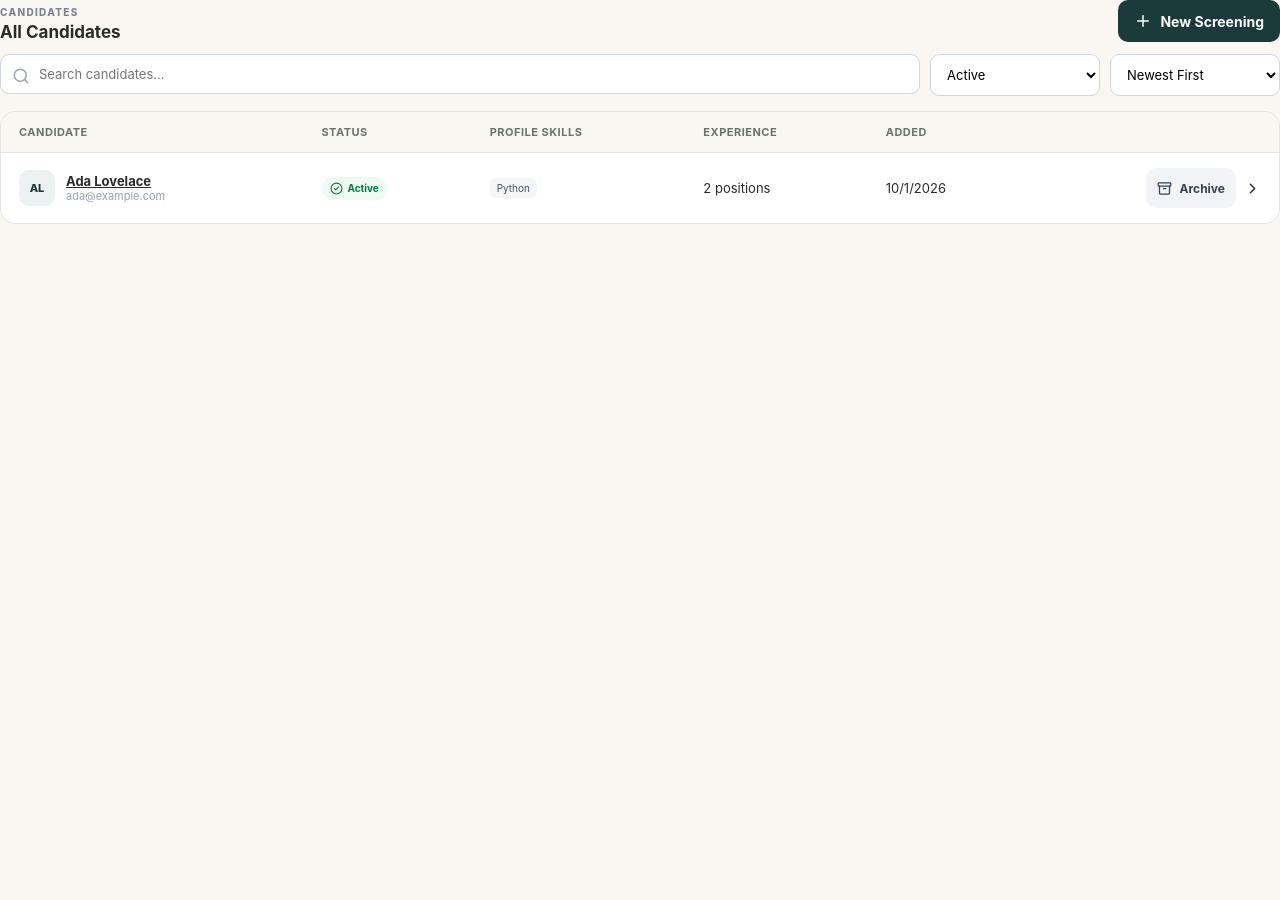
Candidates empty states › keeps the candidate active and reports a failed archive request
Click the button with aria-label "Archive Ada Lovelace": coordinates (1191, 188) left=1146, top=168, right=1236, bottom=208
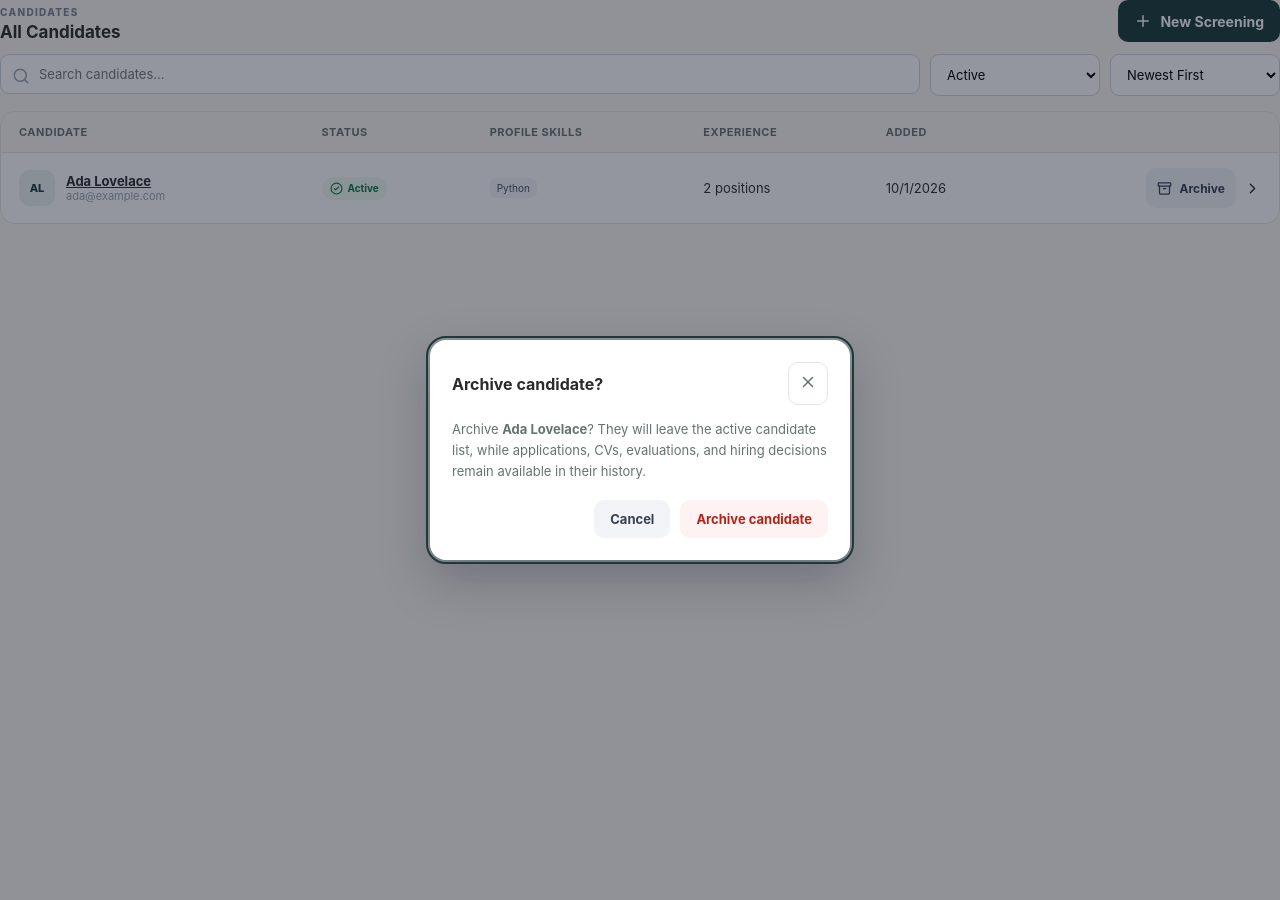
Click the button "Archive candidate": coordinates (754, 519) left=680, top=500, right=828, bottom=538
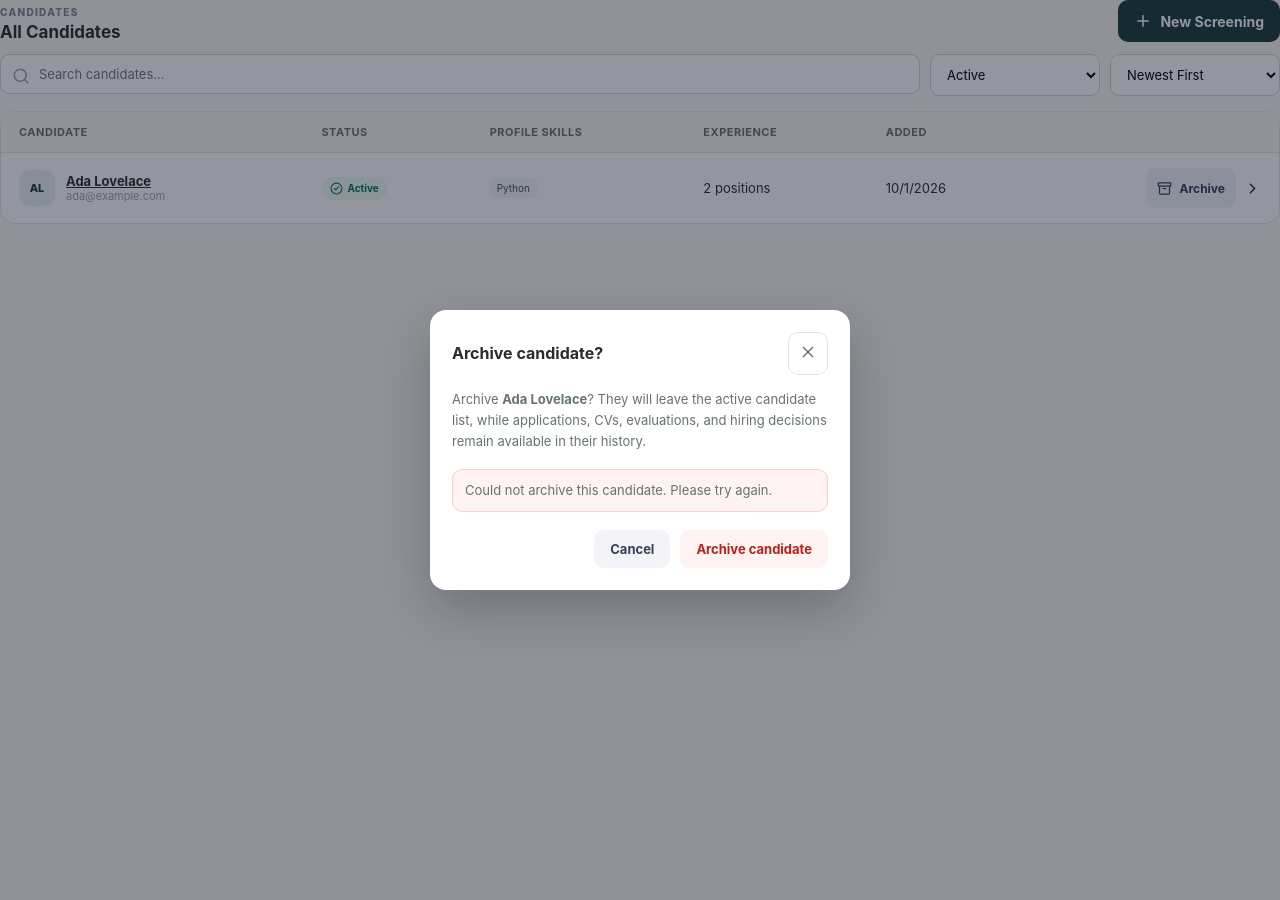
Expected: the link with aria-label "View candidate profile for Ada Lovelace" is shown, left=66, top=173, right=165, bottom=189
Now the dialog is shown, box left=430, top=310, right=850, bottom=590
Now the message reads "Could not archive this candidate. Please try again.", box left=465, top=482, right=772, bottom=498
